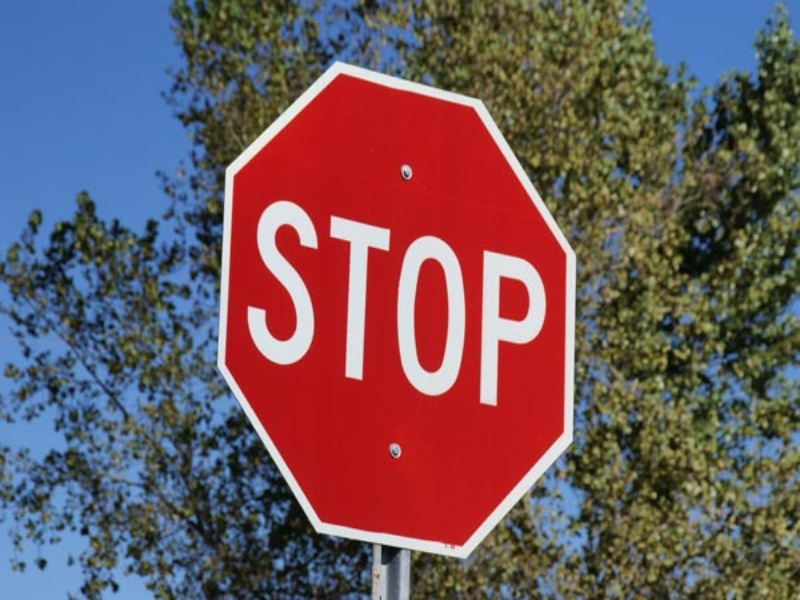stopsign: (181, 58, 688, 565)
